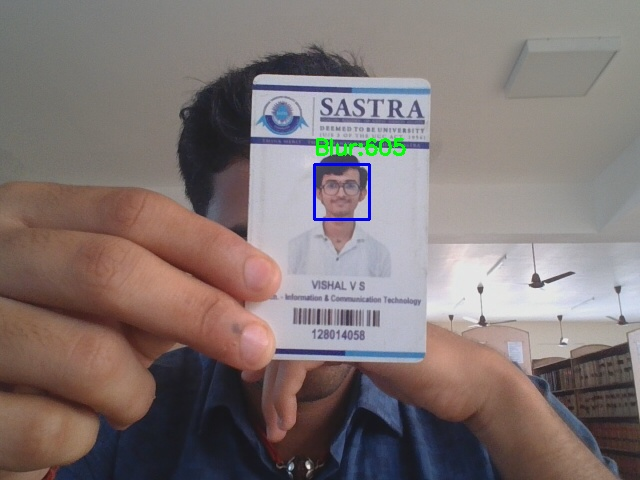fake: (314, 164, 369, 219)
